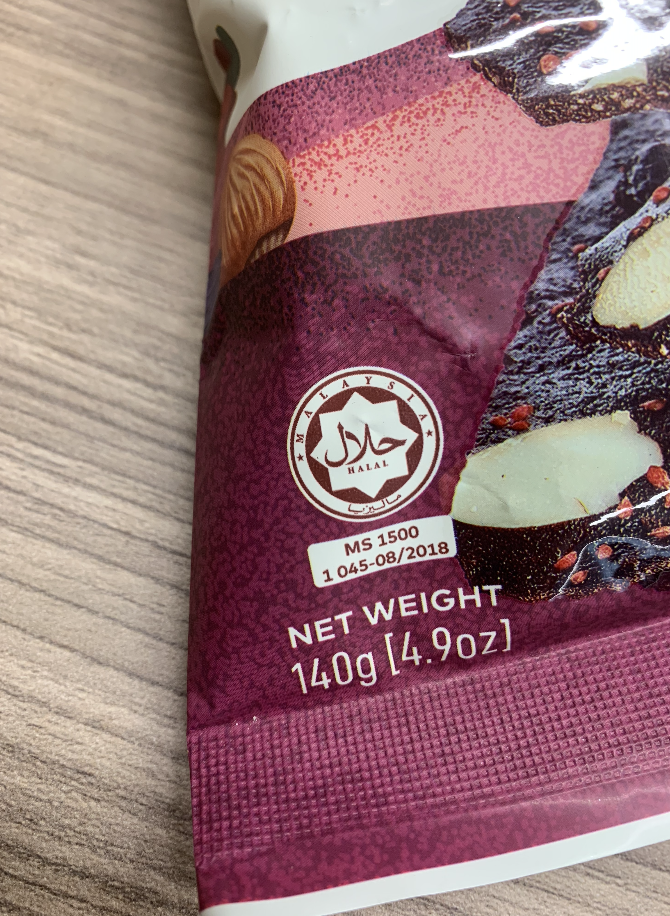halal: (316, 387, 411, 487)
